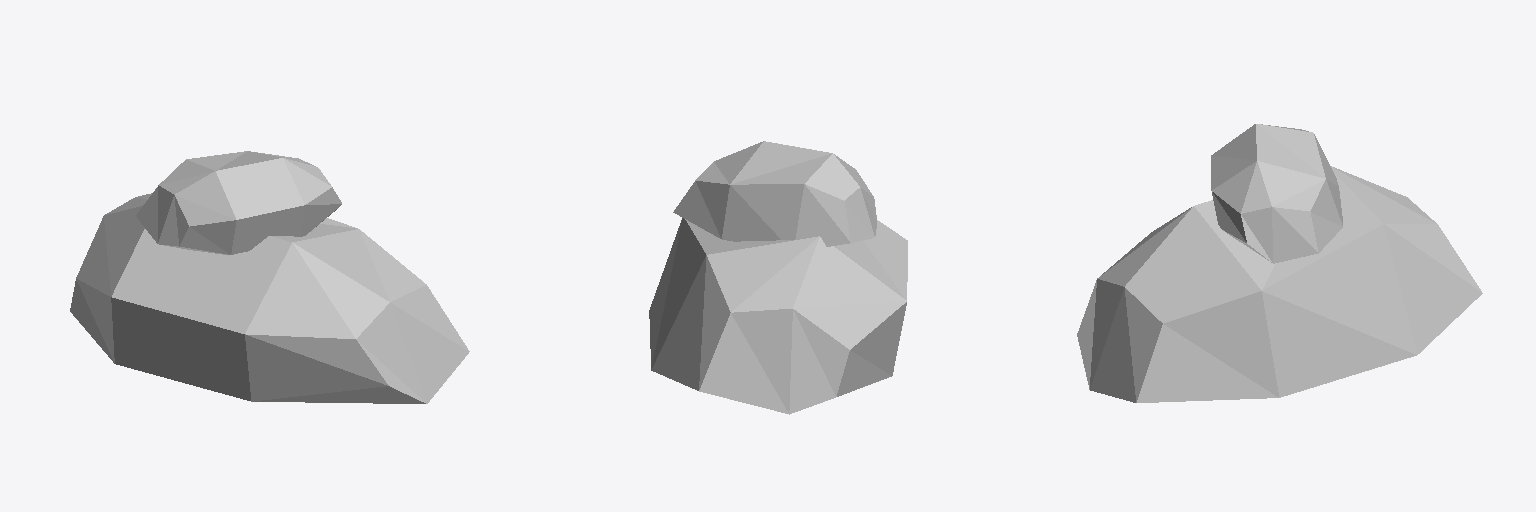
File: roca.obj
3 views of the same model, side by side, from view 1: azimuth 30°, elevation 25°; view 2: azimuth 150°, elevation 25°; view 3: azimuth 270°, elevation 25° (orthographic).
Parts seen in each view (by area): view 1: roca; view 2: roca; view 3: roca.
Part boxes in pixels (x1,y1,x2,y2): roca: (70,151,469,403); roca: (649,141,907,414); roca: (1077,124,1482,402).
Size of the model in its own units: 3.99 by 2.86 by 4.93.